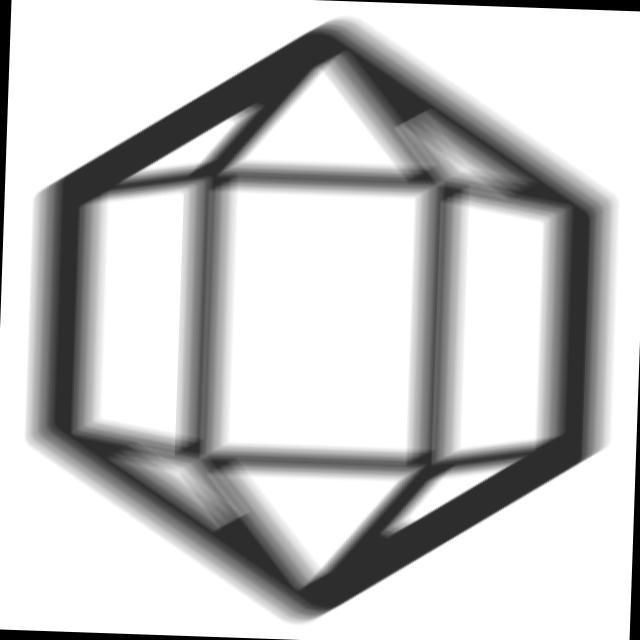crystal: (5, 2, 639, 640)
